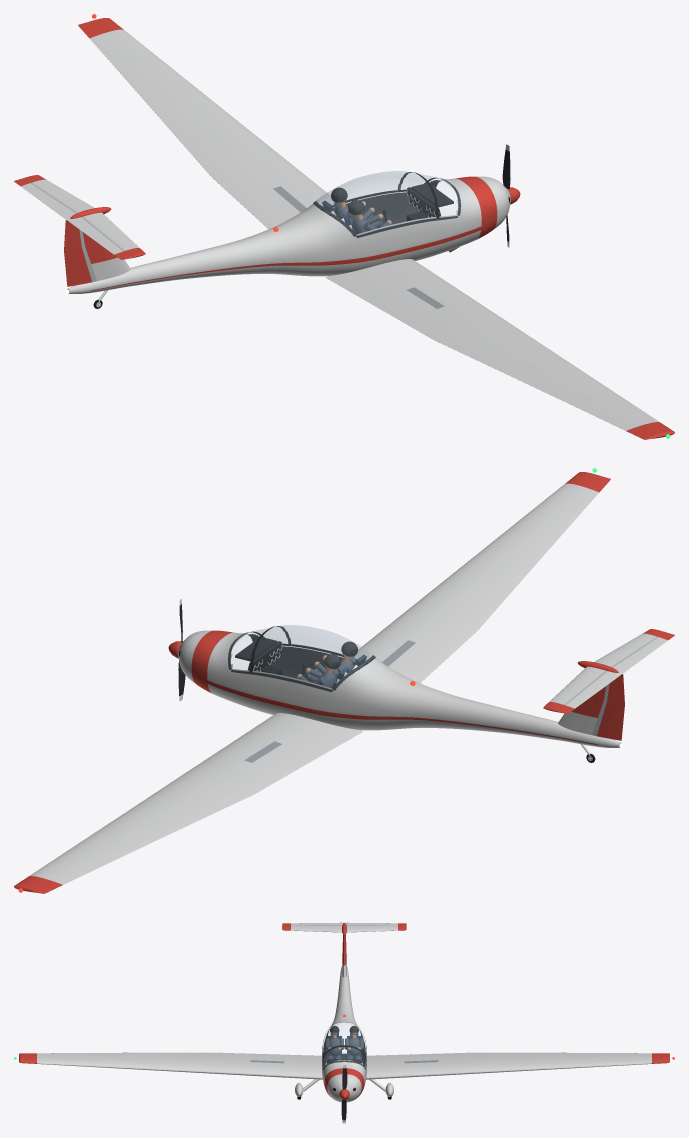
File: glider.glb
The picture shows the model from 3 angles, top to bottom: view 1: azimuth 30°, elevation 25°; view 2: azimuth 150°, elevation 25°; view 3: azimuth 270°, elevation 25°; orthographic projection. The views are drawn at different scales.
Visible parts, largest first — view 1: fuselage, wing_r, wing_l, canopy_glass, fin, tailplane_r, tailplane_l, cockpit_lining, instrument_panel, canopy_frame; view 2: fuselage, wing_l, wing_r, canopy_glass, fin, tailplane_l, tailplane_r, cockpit_lining, instrument_panel, canopy_frame; view 3: wing_r, wing_l, fuselage, canopy_glass, tailplane_r, tailplane_l, pilot_right_suit, pilot_left_suit.
Part boxes in pixels (x1,y1,x2,y2): fuselage: [67, 176, 510, 293]; wing_r: [326, 259, 674, 439]; wing_l: [78, 18, 334, 228]; canopy_glass: [314, 171, 460, 237]; fin: [64, 220, 130, 286]; tailplane_r: [67, 212, 145, 259]; tailplane_l: [14, 175, 94, 219]; cockpit_lining: [333, 180, 442, 224]; instrument_panel: [406, 183, 453, 221]; canopy_frame: [313, 177, 460, 238]; fuselage: [178, 630, 621, 747]; wing_l: [14, 713, 362, 893]; wing_r: [354, 472, 610, 682]; canopy_glass: [228, 625, 374, 691]; fin: [558, 674, 624, 740]; tailplane_l: [543, 666, 621, 713]; tailplane_r: [594, 629, 674, 673]; cockpit_lining: [246, 634, 355, 678]; instrument_panel: [235, 637, 282, 675]; canopy_frame: [228, 631, 375, 692]; wing_r: [19, 1052, 326, 1079]; wing_l: [362, 1052, 669, 1079]; fuselage: [322, 967, 366, 1102]; canopy_glass: [322, 1022, 366, 1068]; tailplane_r: [282, 922, 344, 932]; tailplane_l: [345, 922, 406, 932]; pilot_right_suit: [325, 1037, 344, 1059]; pilot_left_suit: [344, 1037, 363, 1059].
Bounding box in the file's own units: 8.01 × 2.56 × 17.51.
